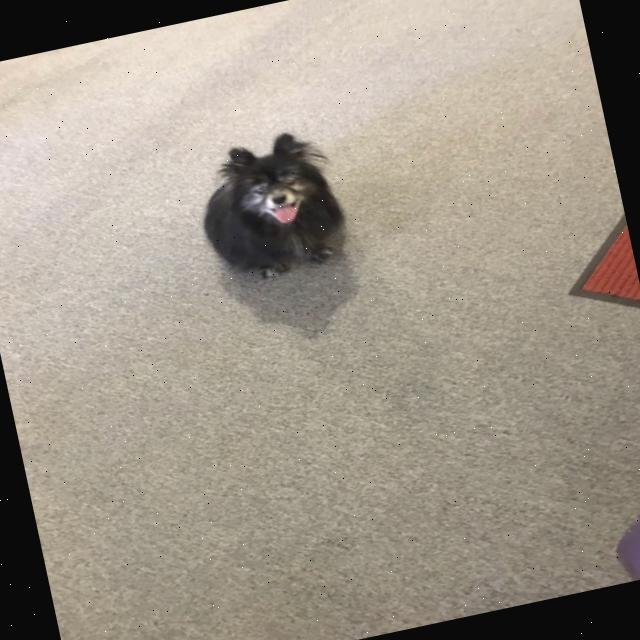pomeranian_dog: (201, 121, 354, 262)
